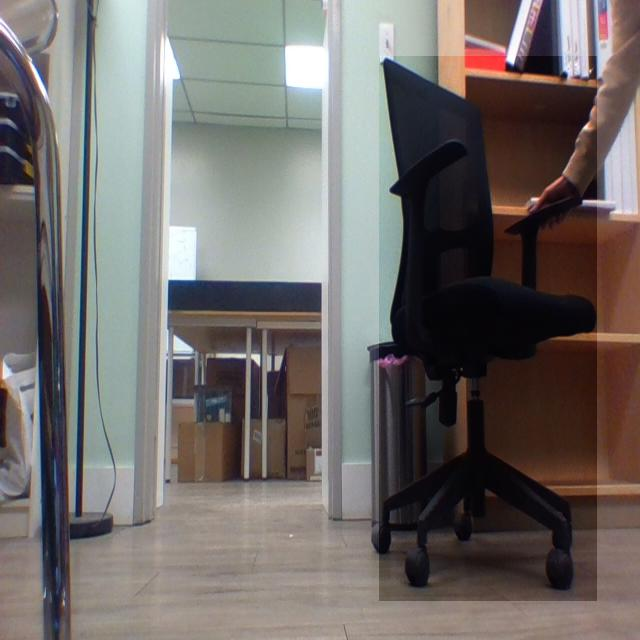black-chair: (379, 56, 598, 602)
